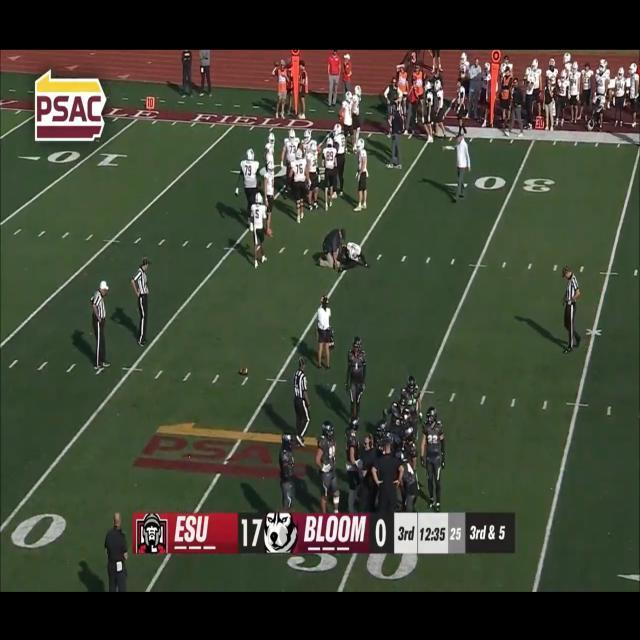football: (238, 365, 250, 377)
